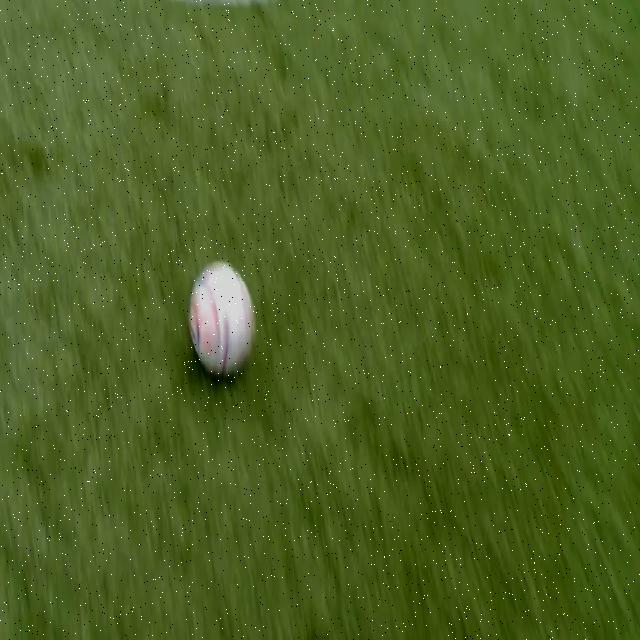ball: (188, 259, 255, 377)
